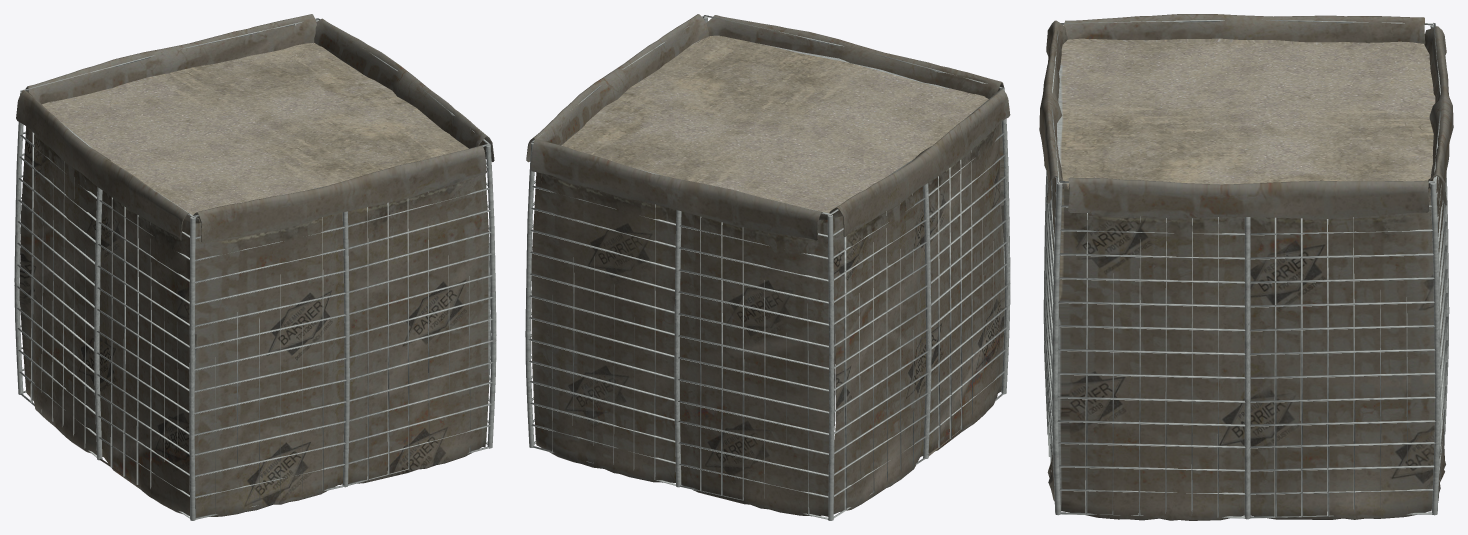
3 views of the same model, side by side, from view 1: azimuth 30°, elevation 25°; view 2: azimuth 150°, elevation 25°; view 3: azimuth 270°, elevation 25° (orthographic). The views are drawn at different scales.
Visible parts, largest first — view 1: HescoBarrier_LOW_Material #25_0; view 2: HescoBarrier_LOW_Material #25_0; view 3: HescoBarrier_LOW_Material #25_0.
Boxes of the visible parts, bbox=[...] form: HescoBarrier_LOW_Material #25_0: bbox=[14, 14, 496, 520]; HescoBarrier_LOW_Material #25_0: bbox=[525, 14, 1010, 520]; HescoBarrier_LOW_Material #25_0: bbox=[1039, 14, 1453, 520].
Size of the model in its own units: 72.64 by 65.72 by 72.29.
Materials: 1 (1 with a texture image).
